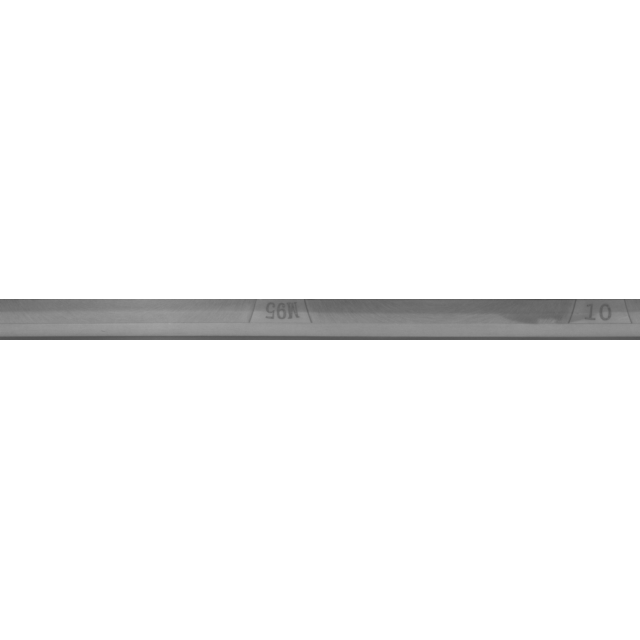mohao: (181, 270, 381, 370)
xuehao: (500, 270, 640, 370)
